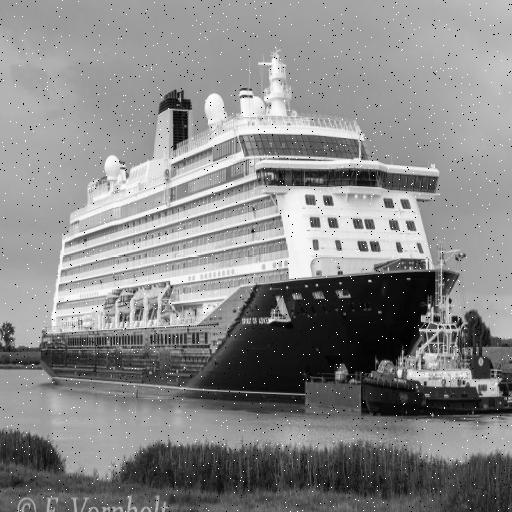cruises: (36, 45, 463, 417)
